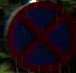No waiting: (4, 0, 75, 72)
